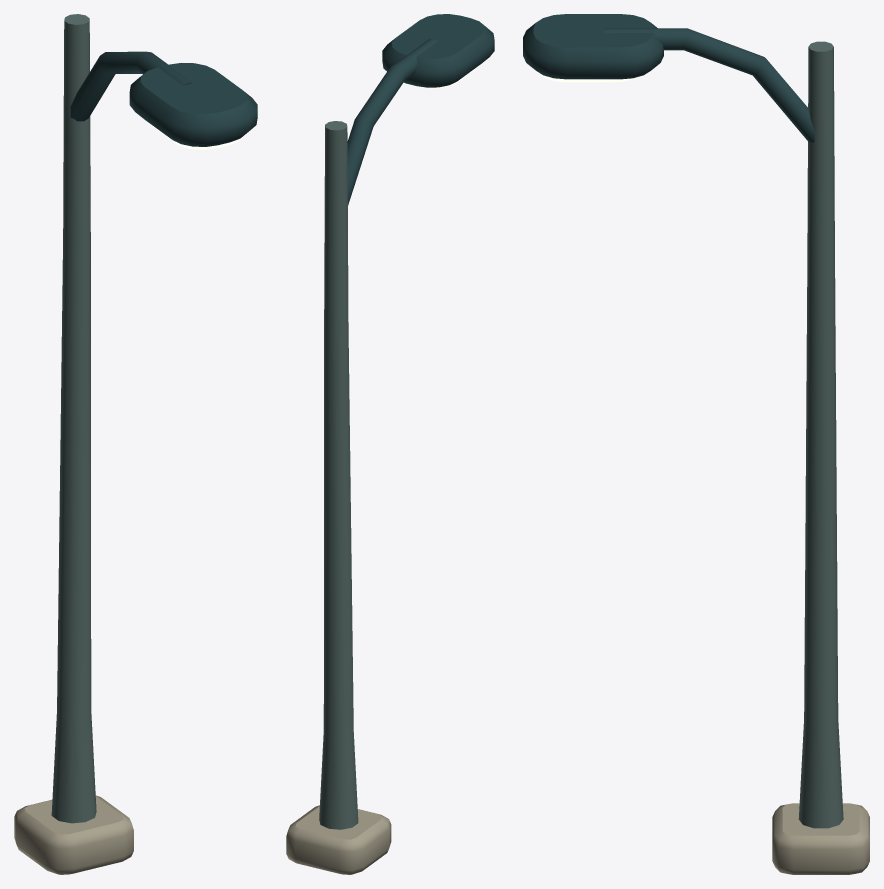
The model's file is lamp.glb.
The picture shows the model from 3 angles, left to right: view 1: azimuth 30°, elevation 25°; view 2: azimuth 150°, elevation 25°; view 3: azimuth 270°, elevation 25°; orthographic projection. The views are drawn at different scales.
Parts seen in each view (by area): view 1: Lamp; view 2: Lamp; view 3: Lamp.
Boxes of the visible parts, x1,y1,x2,y2 form: Lamp: (14,14,257,874); Lamp: (286,14,494,874); Lamp: (523,14,869,874).
Size of the model in its own units: 0.377 by 3.38 by 1.28.
